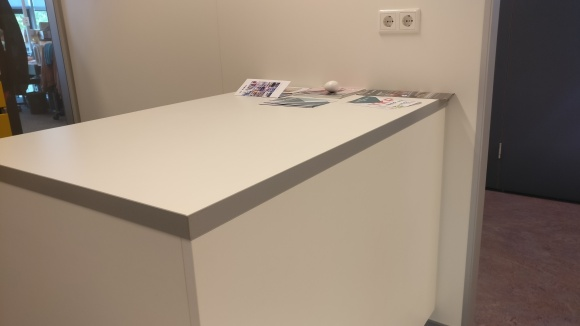egg: (323, 79, 340, 93)
